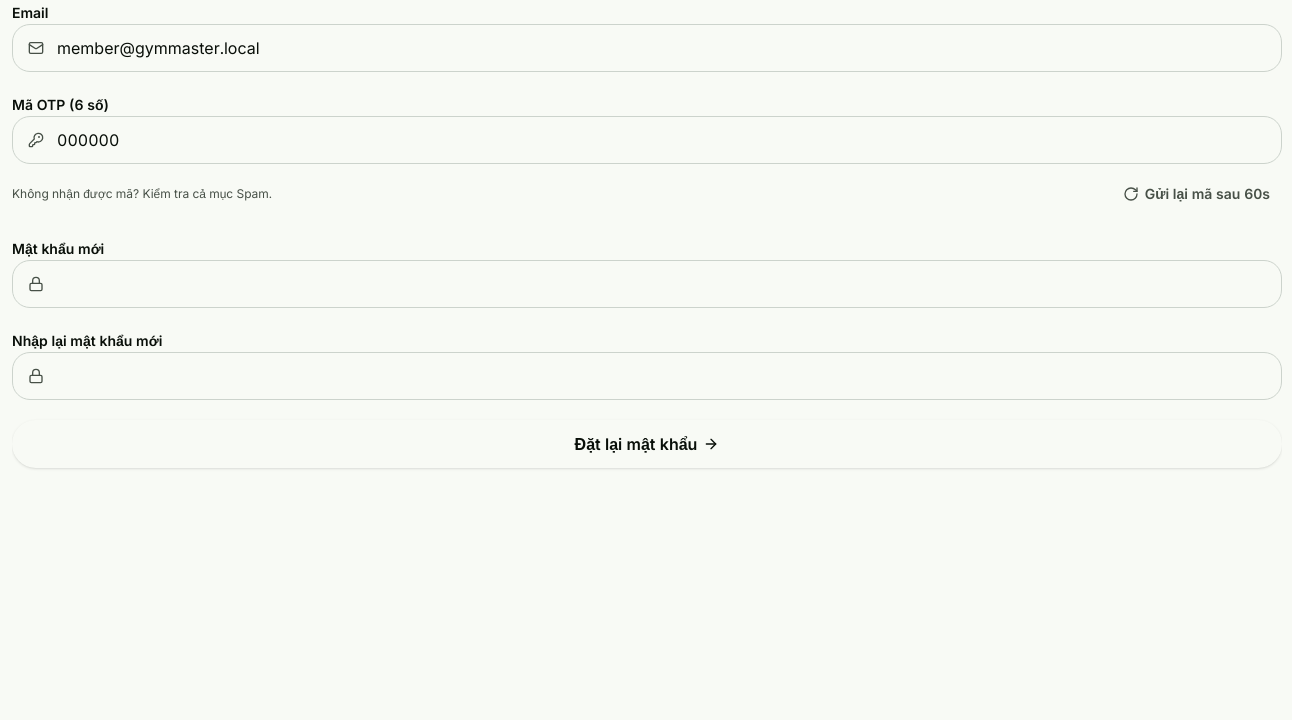
it: auth account forms › shows invalid OTP errors
This screenshot has width=1292, height=720.
In the password field labelled "Mật khẩu mới": (647, 284) [12,260,1282,308], type "NewPassword123!"
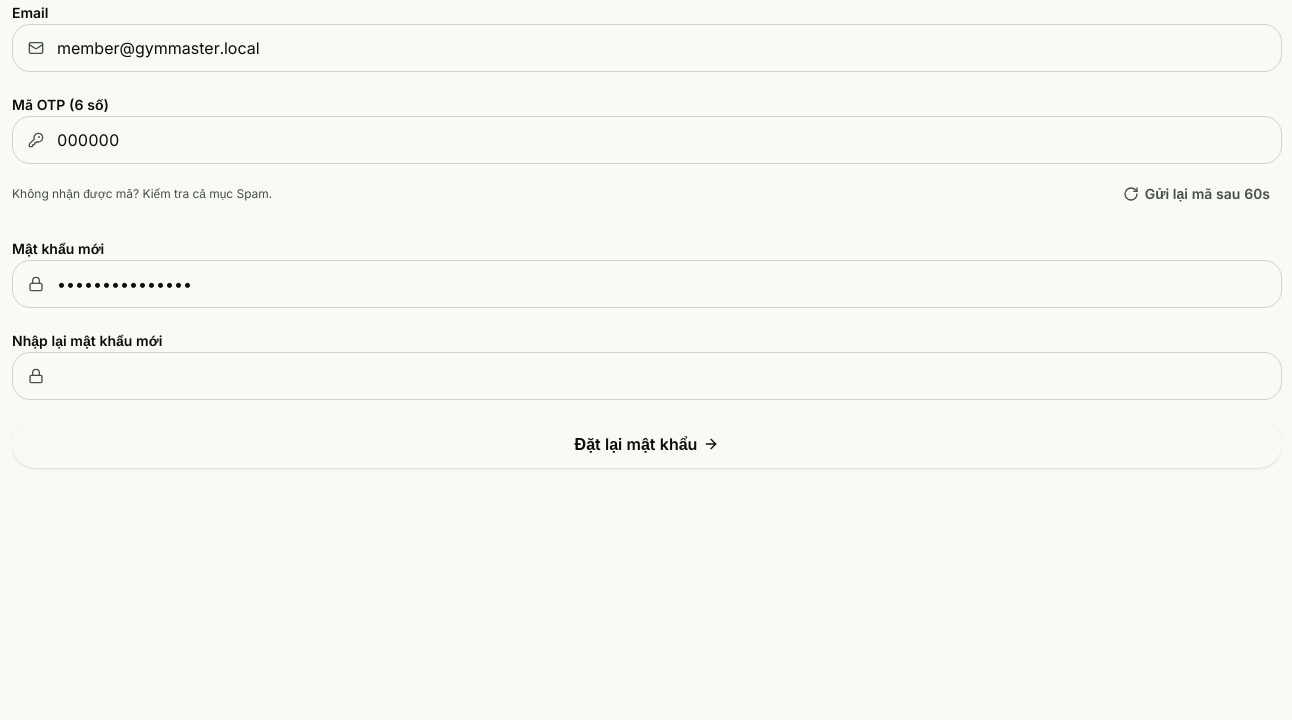
In the password field labelled "Nhập lại mật khẩu mới": (647, 376) [12,352,1282,400], type "NewPassword123!"
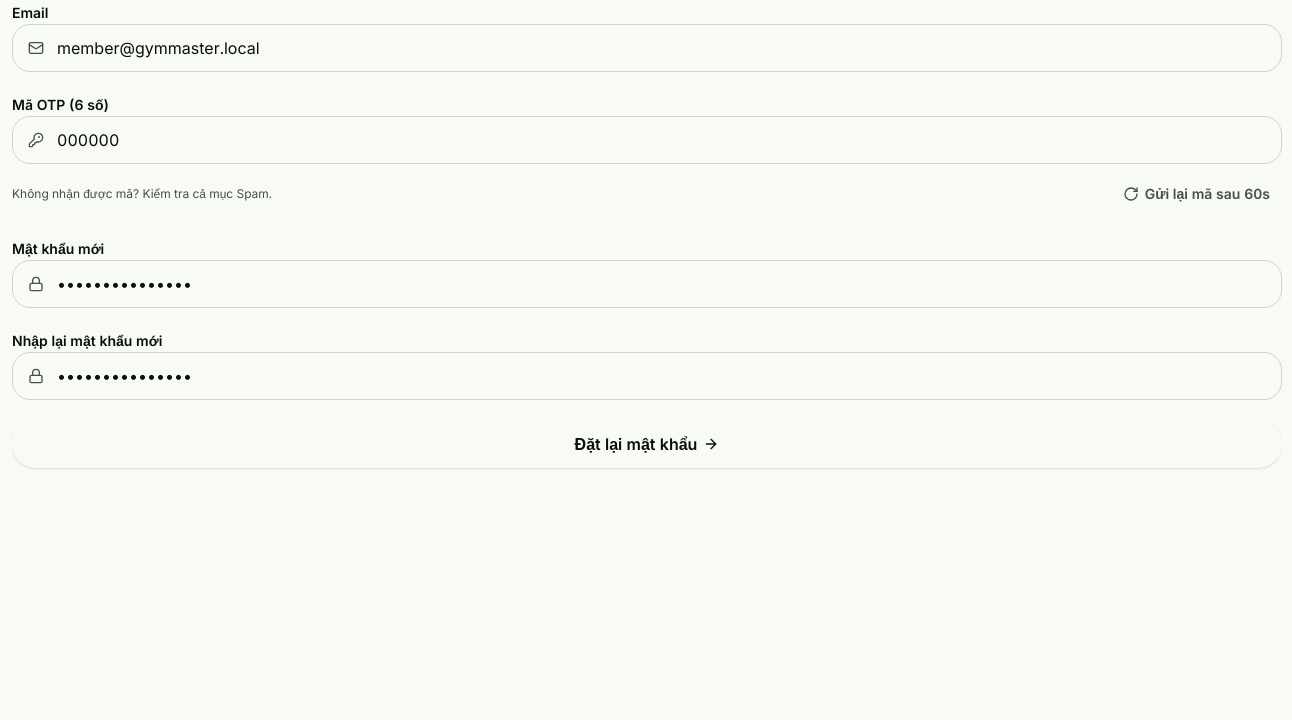
Click the button "Đặt lại mật khẩu": click(647, 444) [12,420,1282,468]
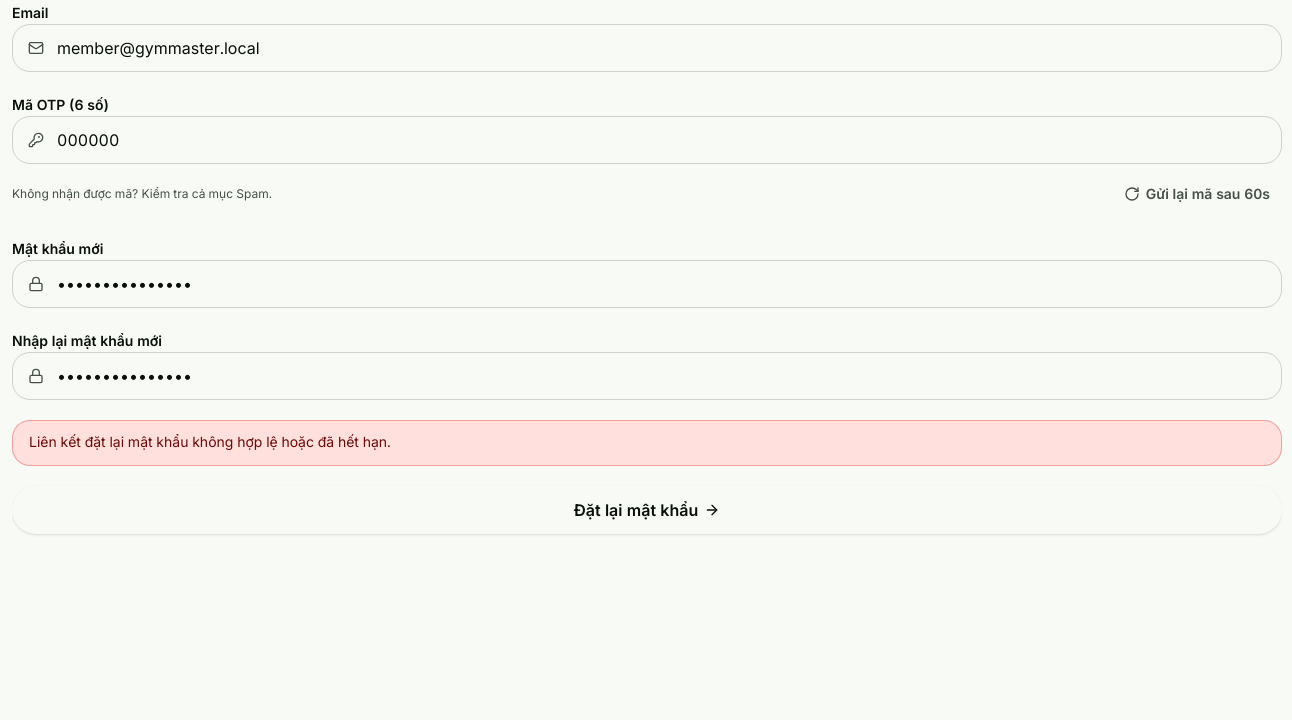
Now the text "Liên kết đặt lại mật khẩu không hợp lệ hoặc đã hết hạn." is shown, box [12,420,1282,466]
